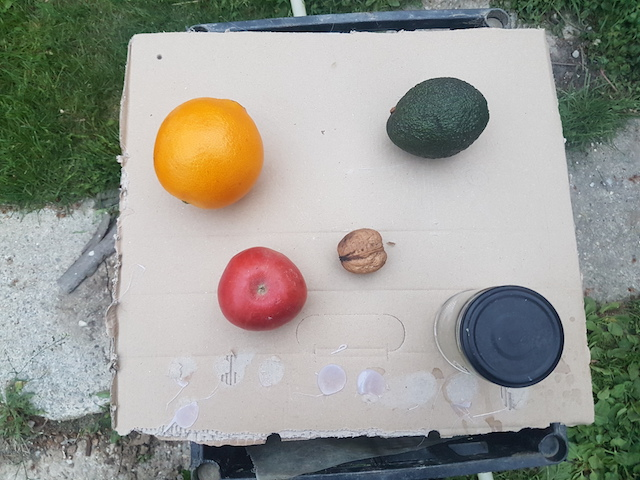apple: (214, 244, 307, 336)
avocado: (382, 73, 494, 161)
nut: (334, 224, 389, 277)
orange: (151, 97, 265, 212)
recipient: (462, 285, 566, 389)
